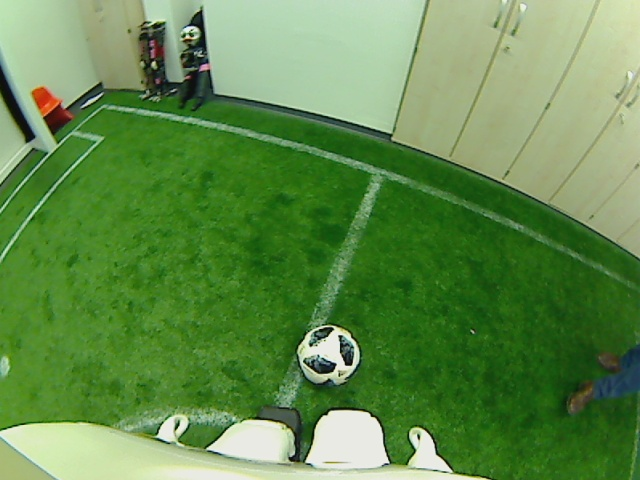ball: (294, 323, 361, 388)
